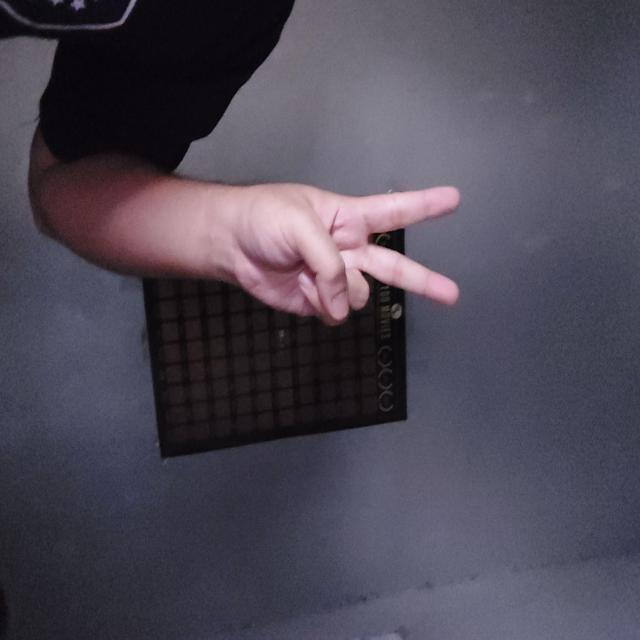V: (179, 179, 327, 412)
